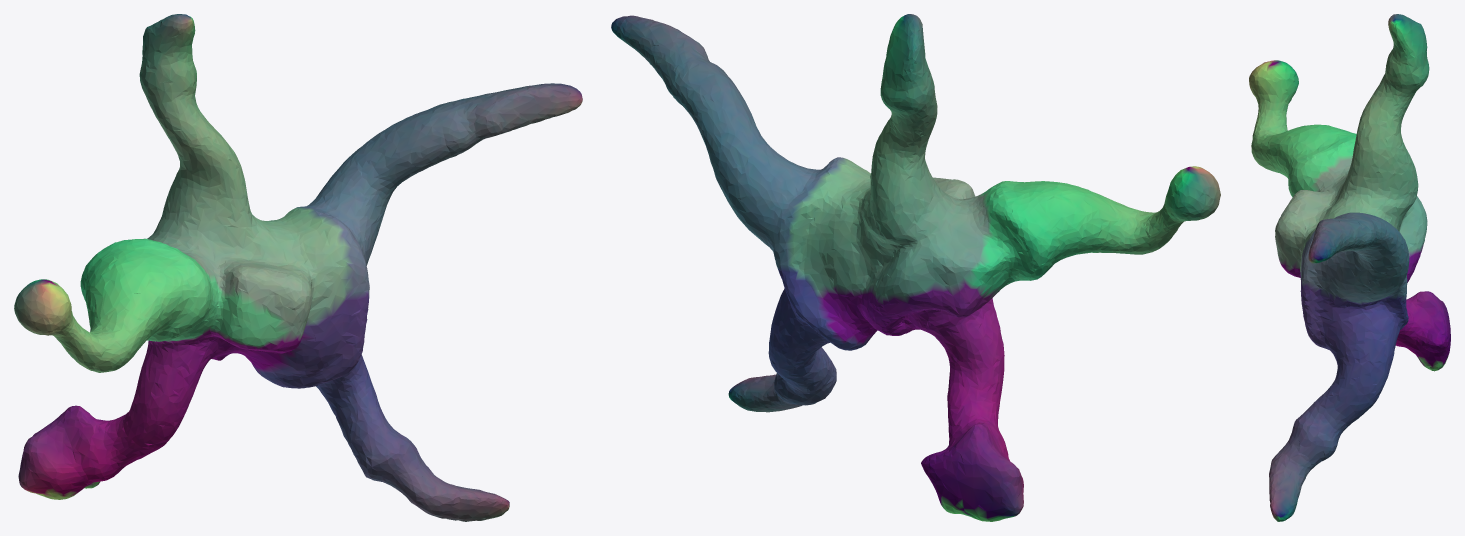
Rendered from santa-1.off.obj.
The picture shows the model from 3 angles, left to right: view 1: azimuth 30°, elevation 25°; view 2: azimuth 150°, elevation 25°; view 3: azimuth 270°, elevation 25°; orthographic projection. The views are drawn at different scales.
Bounding box in the file's own units: 1.55 × 1.29 × 0.5736.
